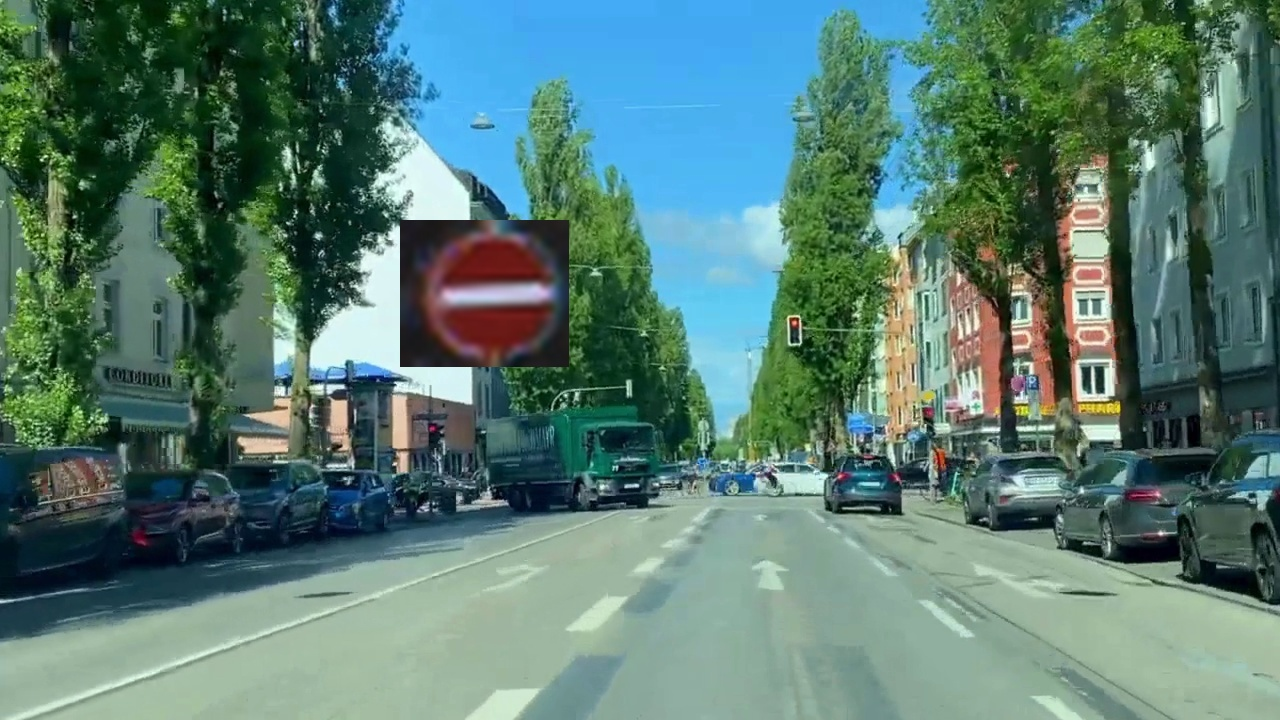No entry: (400, 220, 569, 367)
